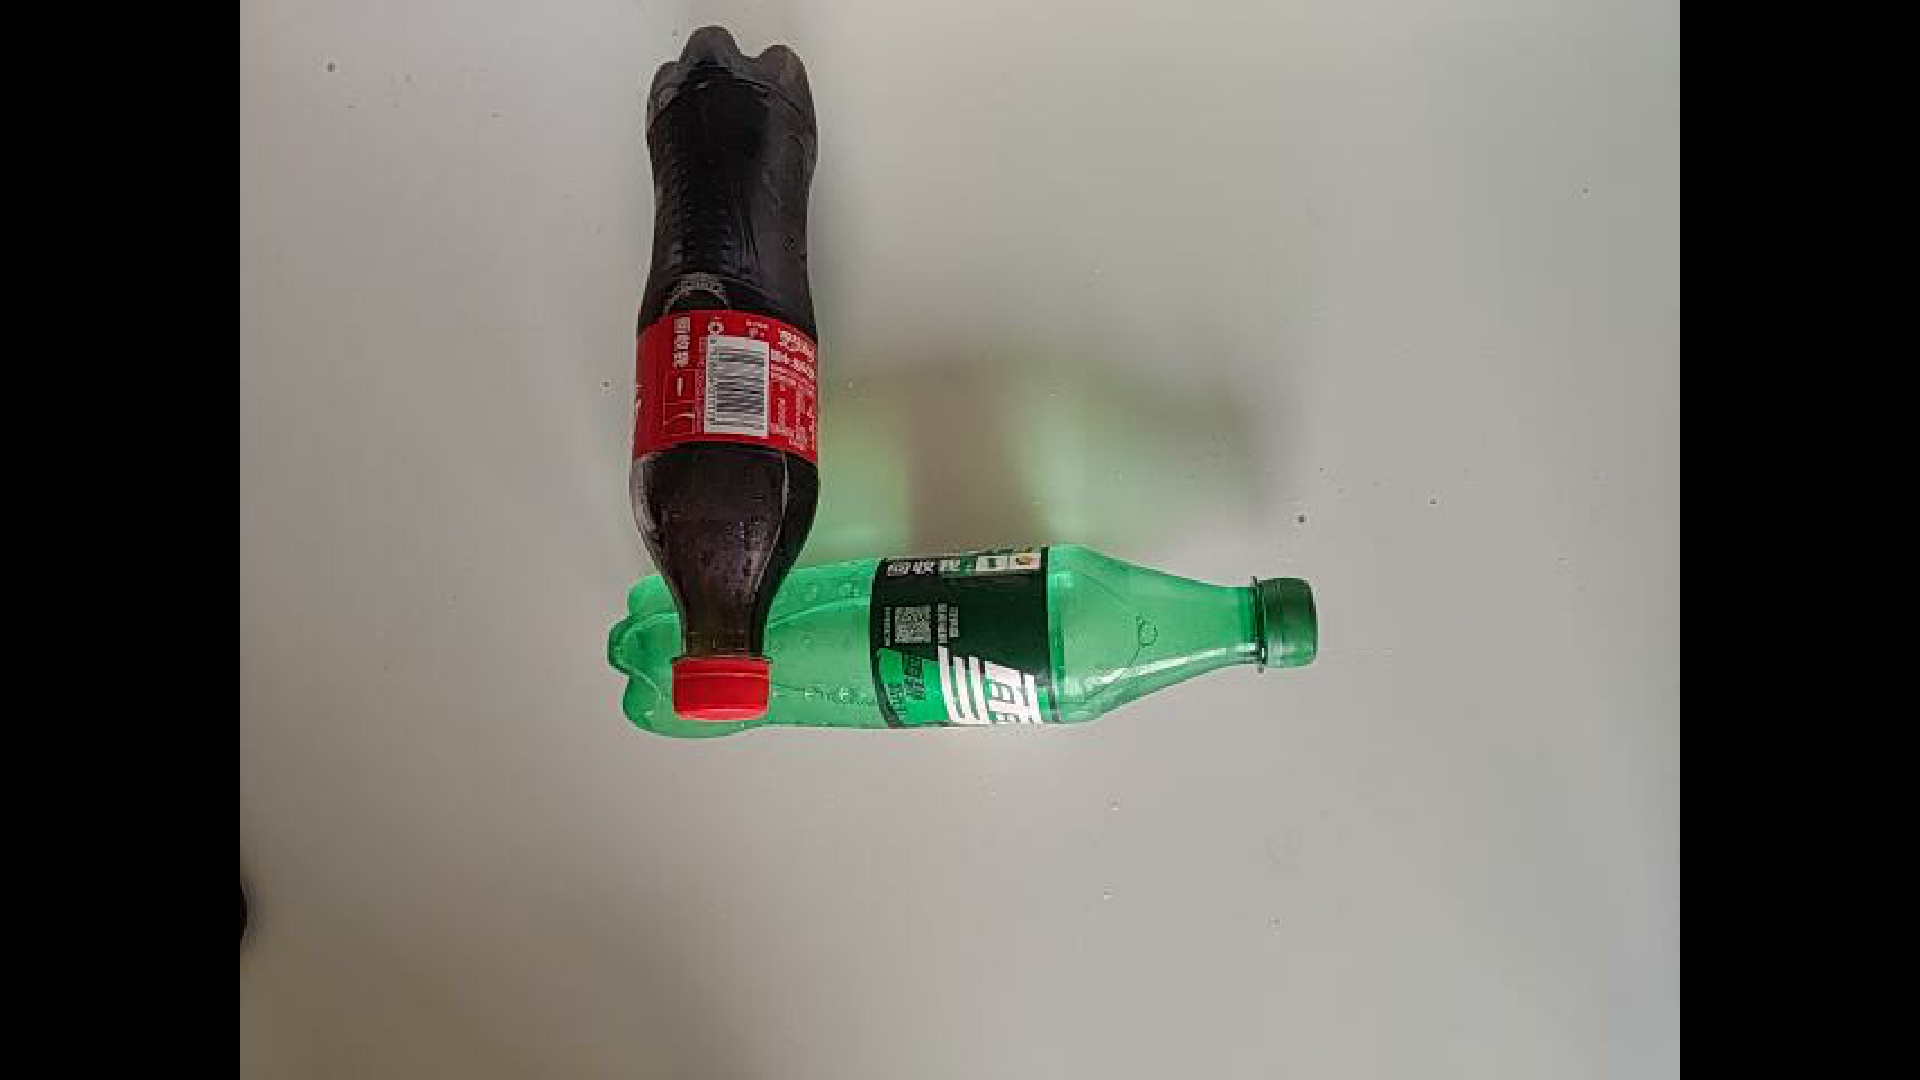cola: (633, 25, 822, 721)
sprite: (603, 542, 1329, 746)
